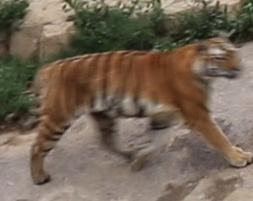tiger: (30, 37, 252, 183)
